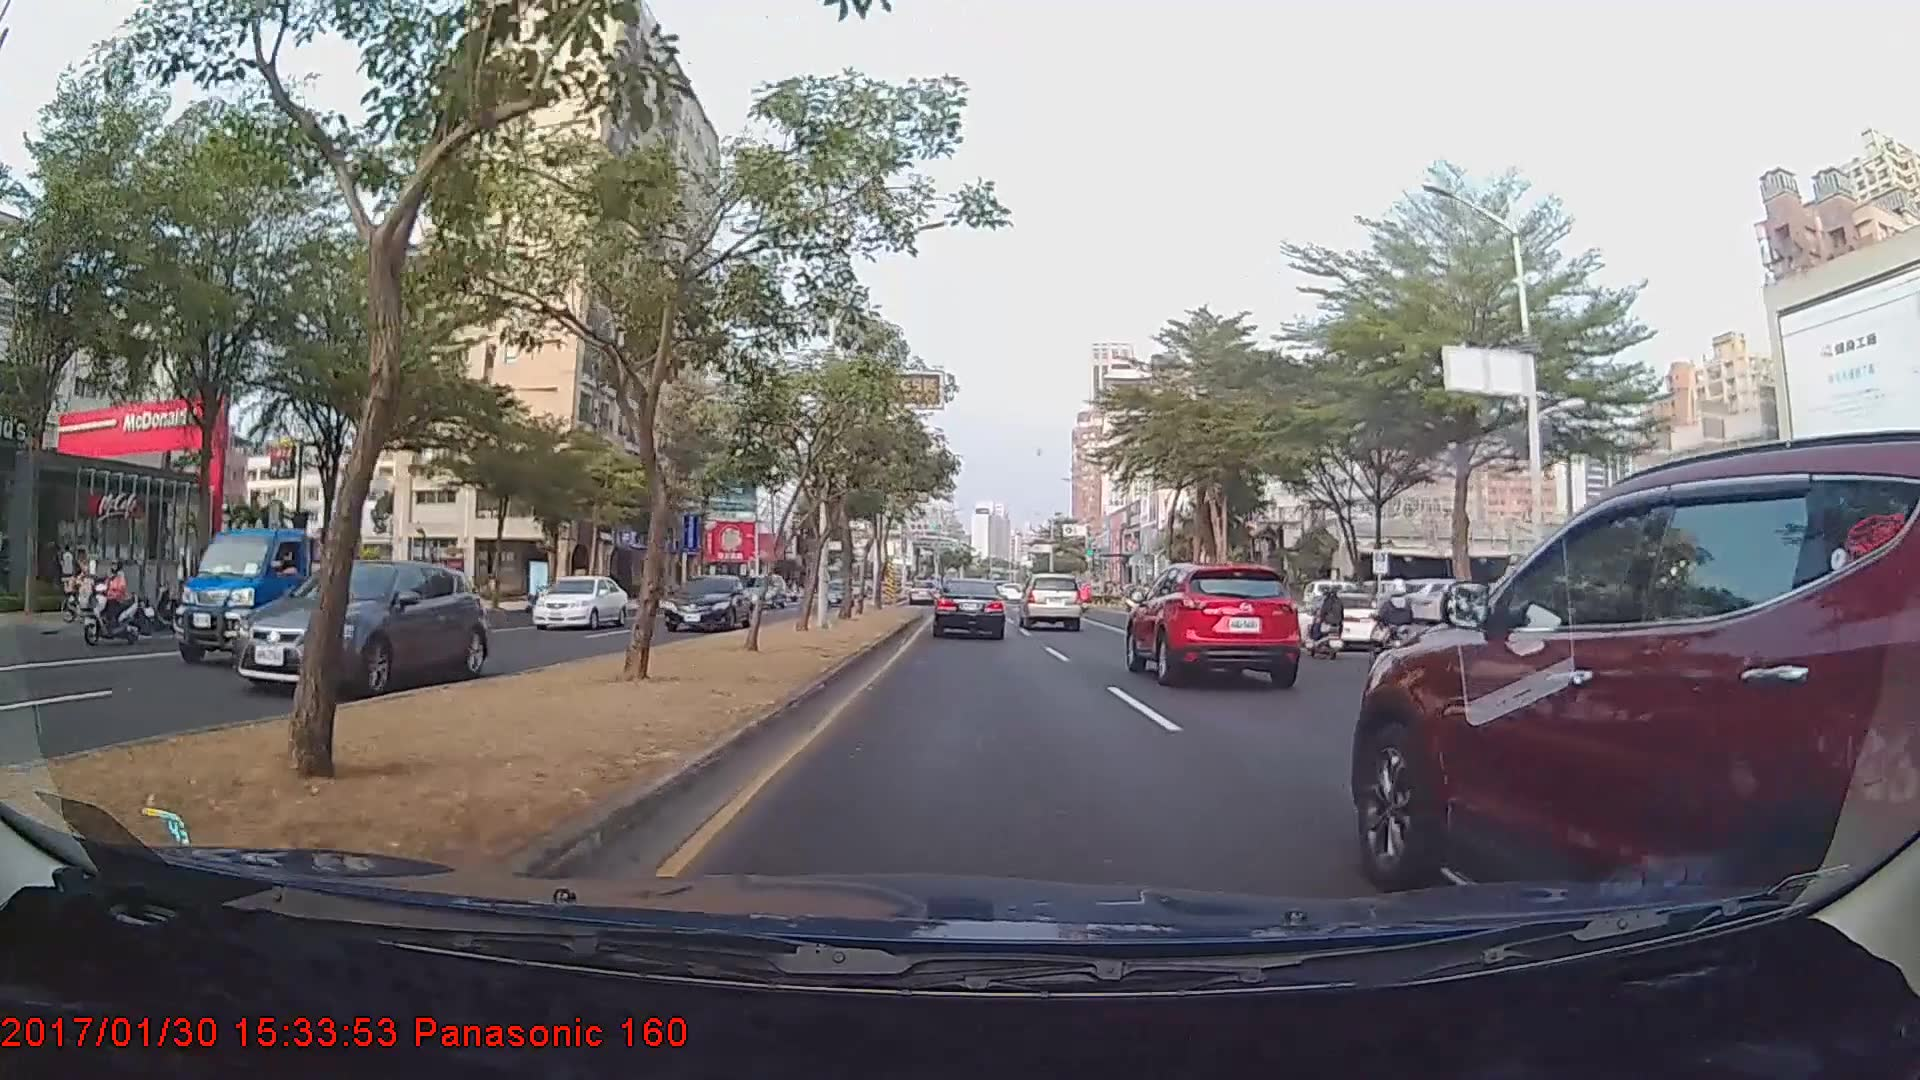rider: (1361, 574, 1424, 669), (80, 554, 144, 645), (1300, 580, 1352, 666)
vehicle: (1349, 444, 1918, 977), (231, 559, 490, 697), (169, 527, 377, 662), (1124, 556, 1303, 686), (1289, 592, 1386, 650), (660, 574, 752, 631), (528, 573, 626, 628), (931, 575, 1006, 640), (1020, 572, 1082, 630), (908, 577, 938, 605)
